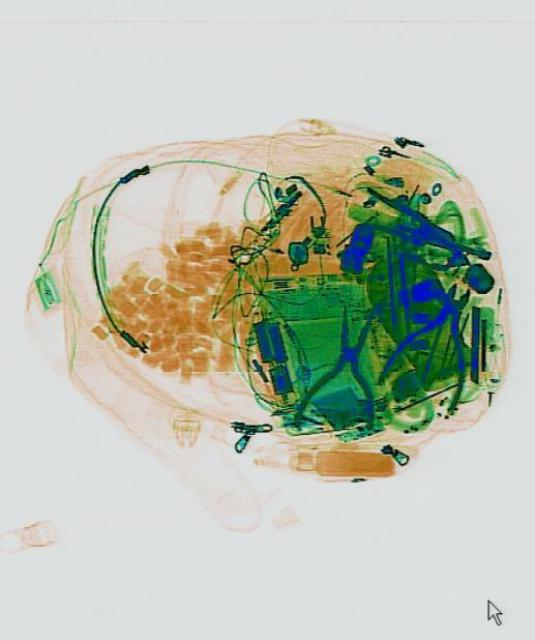Pliers: (373, 262, 497, 414), (290, 299, 388, 439), (351, 185, 459, 259)
